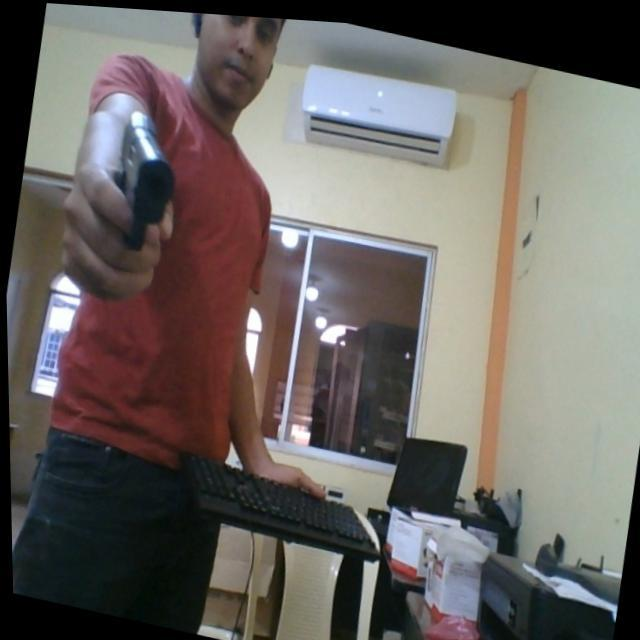weapon: (102, 104, 188, 258)
